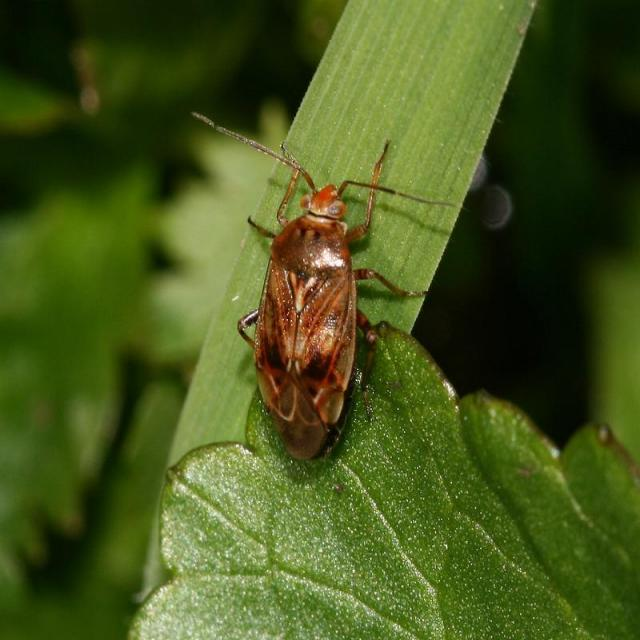Miridae-Adult-: (167, 79, 469, 466)
